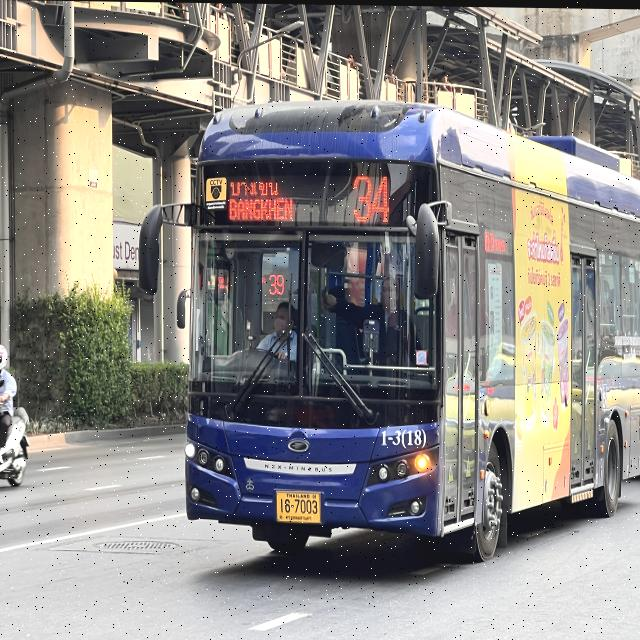Bus-Line-Number: (346, 170, 397, 227)
Destination-Sign-Normal: (225, 171, 308, 226)
TSB-Bus: (179, 86, 640, 570)
